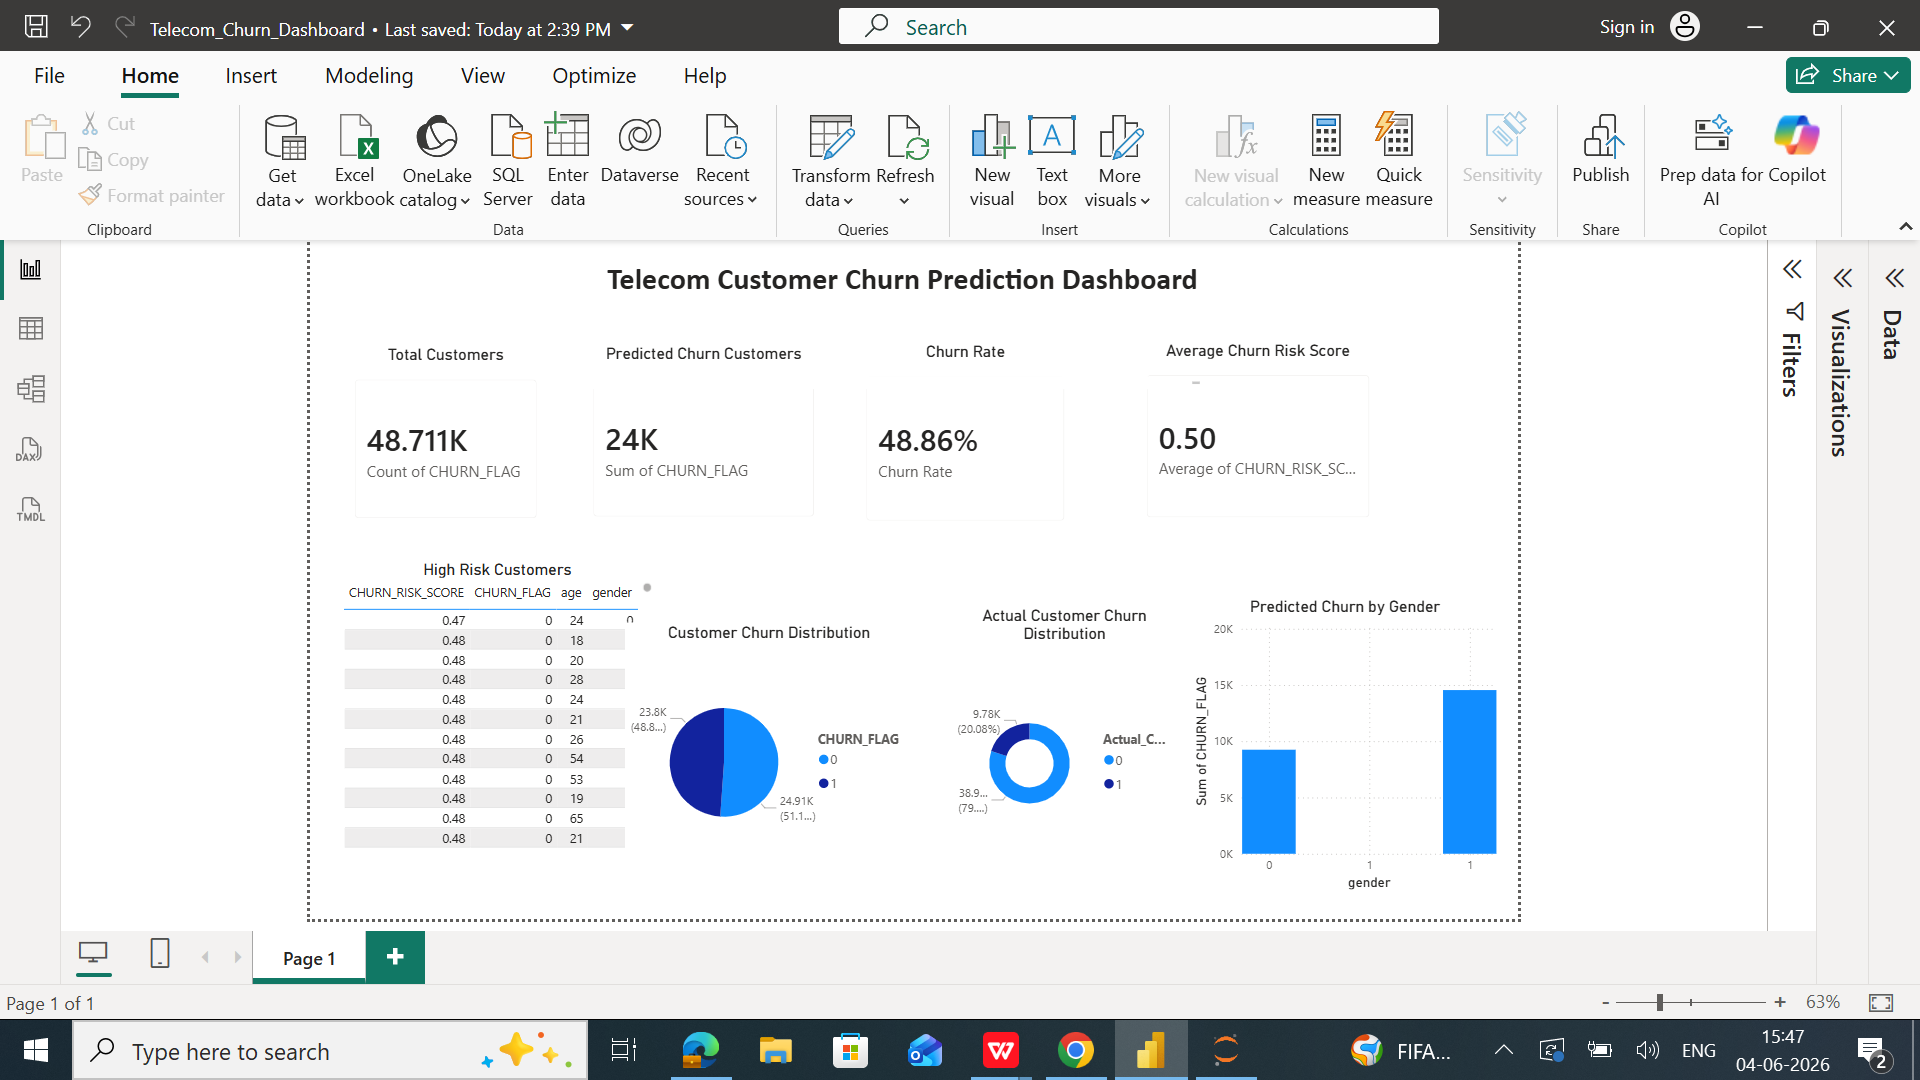

This screenshot's page, from the dashboard's own definition file:
{"tool":"powerbi","page":{"name":"Page 1","canvas":[1280,720],"ordinal":0},"visuals":[{"type":"cardVisual","title":"Predicted Churn Customers","fields":{"Data":["Sum(telecom_churn_dashboard_data.CHURN_FLAG)"]},"box":[283.1,109.8,268.8,200.4],"z":0},{"type":"cardVisual","title":"Churn Rate","fields":{"Data":["telecom_churn_dashboard_data.Churn Rate"]},"box":[572.6,108.2,245,206.8],"z":1000},{"type":"clusteredColumnChart","title":"Predicted Churn by Gender","fields":{"Category":["telecom_churn_dashboard_data.gender"],"Y":["Sum(telecom_churn_dashboard_data.CHURN_FLAG)"]},"box":[932.1,378.6,330.8,314.9],"z":2000},{"type":"tableEx","title":"High Risk Customers","fields":{"Values":["telecom_churn_dashboard_data.CHURN_RISK_SCORE","telecom_churn_dashboard_data.CHURN_FLAG","telecom_churn_dashboard_data.age","telecom_churn_dashboard_data.gender"]},"box":[29.5,338.7,336.9,314.8],"z":3000},{"type":"pieChart","title":"Customer Churn Distribution","fields":{"Category":["telecom_churn_dashboard_data.CHURN_FLAG"],"Y":["CountNonNull(telecom_churn_dashboard_data.CHURN_FLAG)"]},"box":[334,405.6,305.4,276.8],"z":4000},{"type":"cardVisual","title":"Average Churn Risk Score","fields":{"Data":["Avg(telecom_churn_dashboard_data.CHURN_RISK_SCORE)"]},"box":[870.1,106.6,270.4,205.2],"z":5000},{"type":"donutChart","title":"Actual Customer Churn Distribution","fields":{"Y":["CountNonNull(telecom_churn_dashboard_data.Actual_Churn)"],"Category":["telecom_churn_dashboard_data.Actual_Churn"]},"box":[679.2,388.1,241.8,294.3],"z":6000},{"type":"textbox","box":[100.2,145.5,848.5,13.2],"z":7000},{"type":"textbox","box":[283.1,15.9,690.3,60.4],"z":8000},{"type":"cardVisual","title":"Total Customers","fields":{"Data":["CountNonNull(telecom_churn_dashboard_data.CHURN_FLAG)"]},"box":[30.2,111.3,227.5,200.4],"z":9000}]}

Visuals, with their boxes on the page's 1280x720 design canvas (x1, y1, x2, y2). These are canvas units, not pixel positions in the 1920x1080 screenshot, which may show the page scaled, cropped or inside an application window:
"Predicted Churn Customers" cardVisual: box(283, 110, 552, 310)
"Churn Rate" cardVisual: box(573, 108, 818, 315)
"Predicted Churn by Gender" clusteredColumnChart: box(932, 379, 1263, 694)
"High Risk Customers" tableEx: box(30, 339, 366, 654)
"Customer Churn Distribution" pieChart: box(334, 406, 639, 682)
"Average Churn Risk Score" cardVisual: box(870, 107, 1140, 312)
"Actual Customer Churn Distribution" donutChart: box(679, 388, 921, 682)
textbox: box(100, 146, 949, 159)
textbox: box(283, 16, 973, 76)
"Total Customers" cardVisual: box(30, 111, 258, 312)
